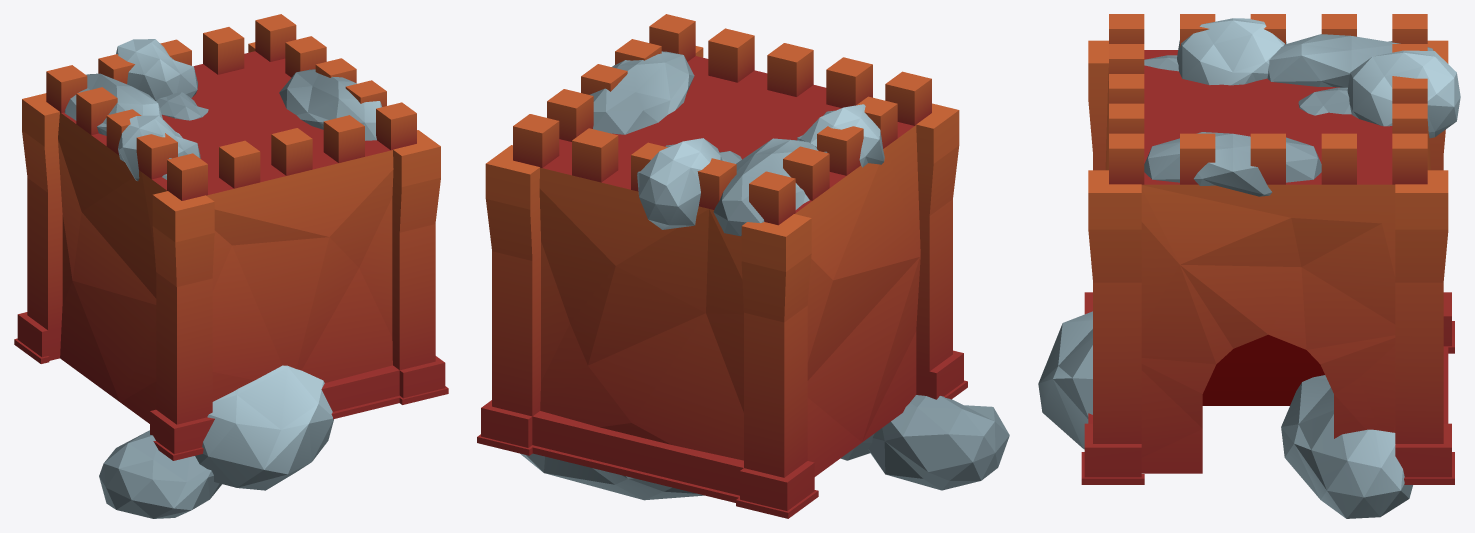
File: SM_Tower_Cube_Middle.fbx
3 views of the same model, side by side, from view 1: azimuth 30°, elevation 25°; view 2: azimuth 150°, elevation 25°; view 3: azimuth 270°, elevation 25° (orthographic). The views are drawn at different scales.
Parts seen in each view (by area): view 1: SM_Tower_Cube_Middle; view 2: SM_Tower_Cube_Middle; view 3: SM_Tower_Cube_Middle.
Part boxes in pixels (box(x1,y1,x2,y2)): SM_Tower_Cube_Middle: box(14, 14, 448, 518); SM_Tower_Cube_Middle: box(477, 14, 1009, 518); SM_Tower_Cube_Middle: box(1038, 14, 1460, 518).
Size of the model in its own units: 1167 by 1159 by 1061.
